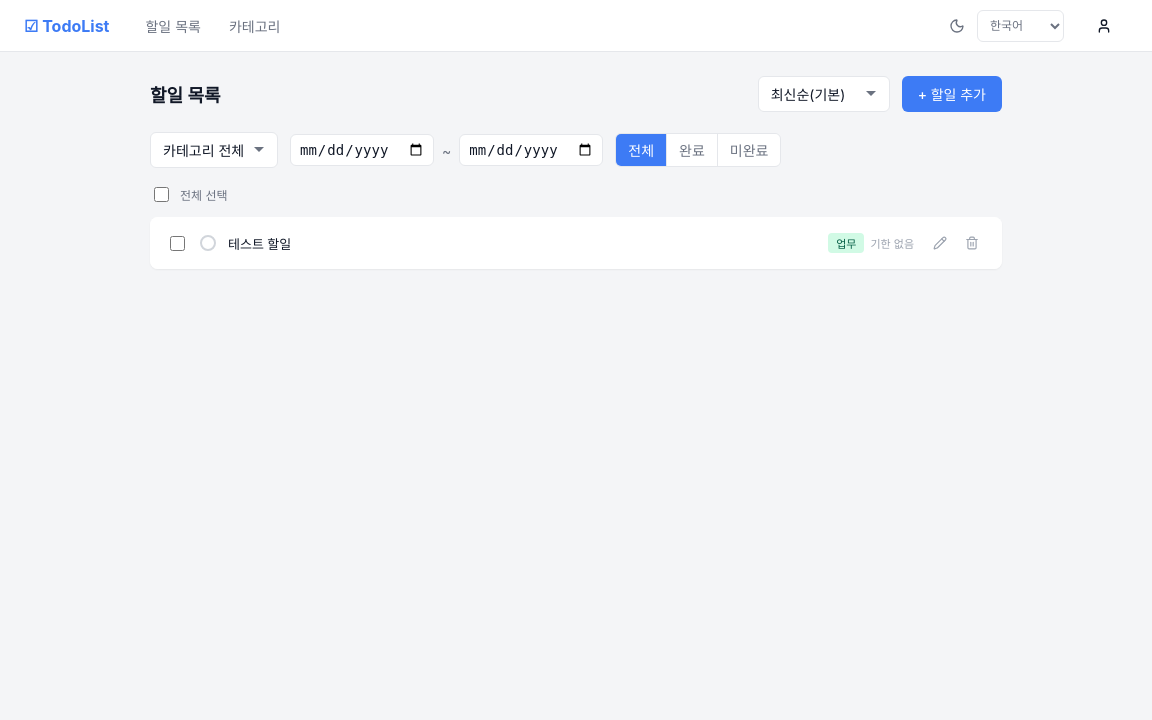
Test: 수정 버튼 클릭 시 EditTodoModal 표시
Click the button named "수정" at (940, 243), box [926,229,954,257]
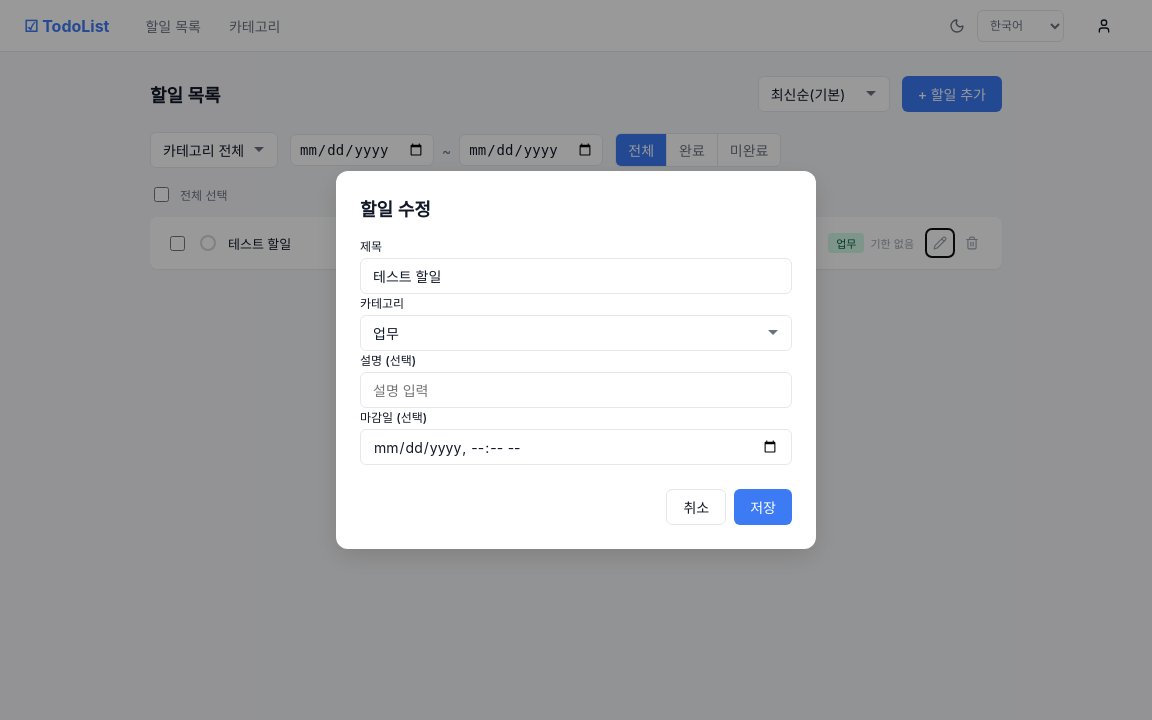
Result: the heading "할일 수정" is shown at [360,199,431,220]
